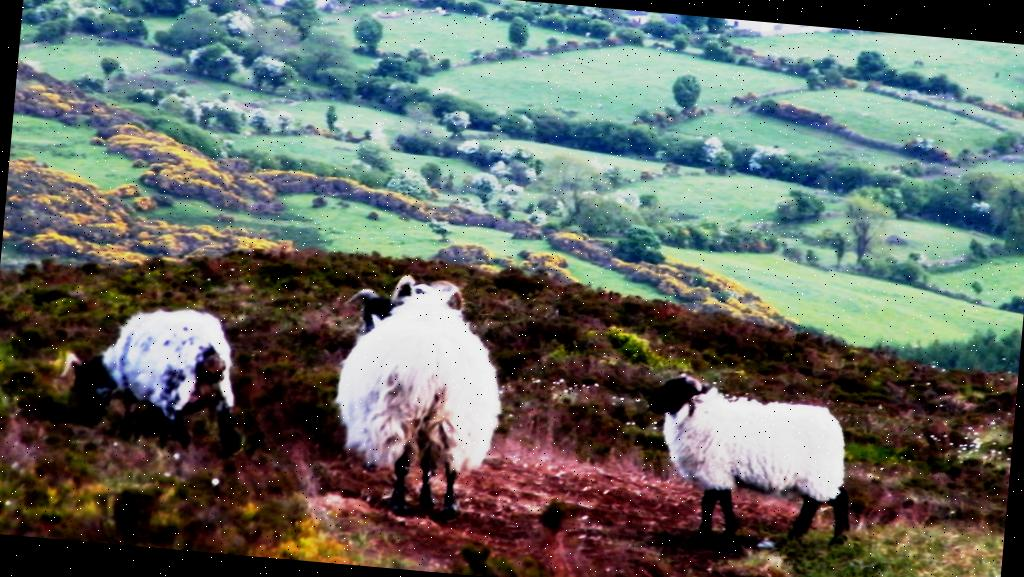Sheep: (322, 267, 508, 528), (630, 358, 871, 557), (60, 285, 258, 466)
